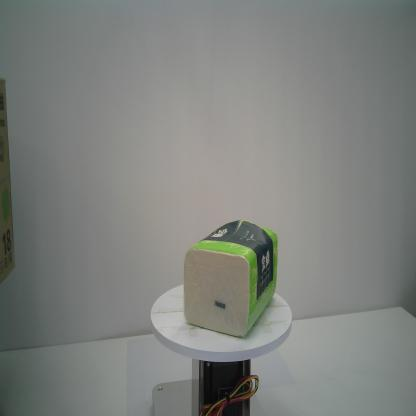Tissue: (182, 218, 279, 339)
